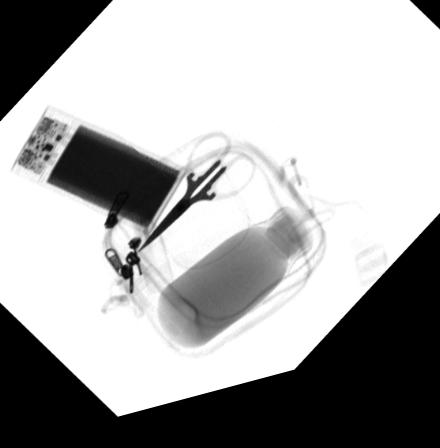Powerbank: (7, 104, 188, 243)
Scissors: (132, 140, 258, 261)
